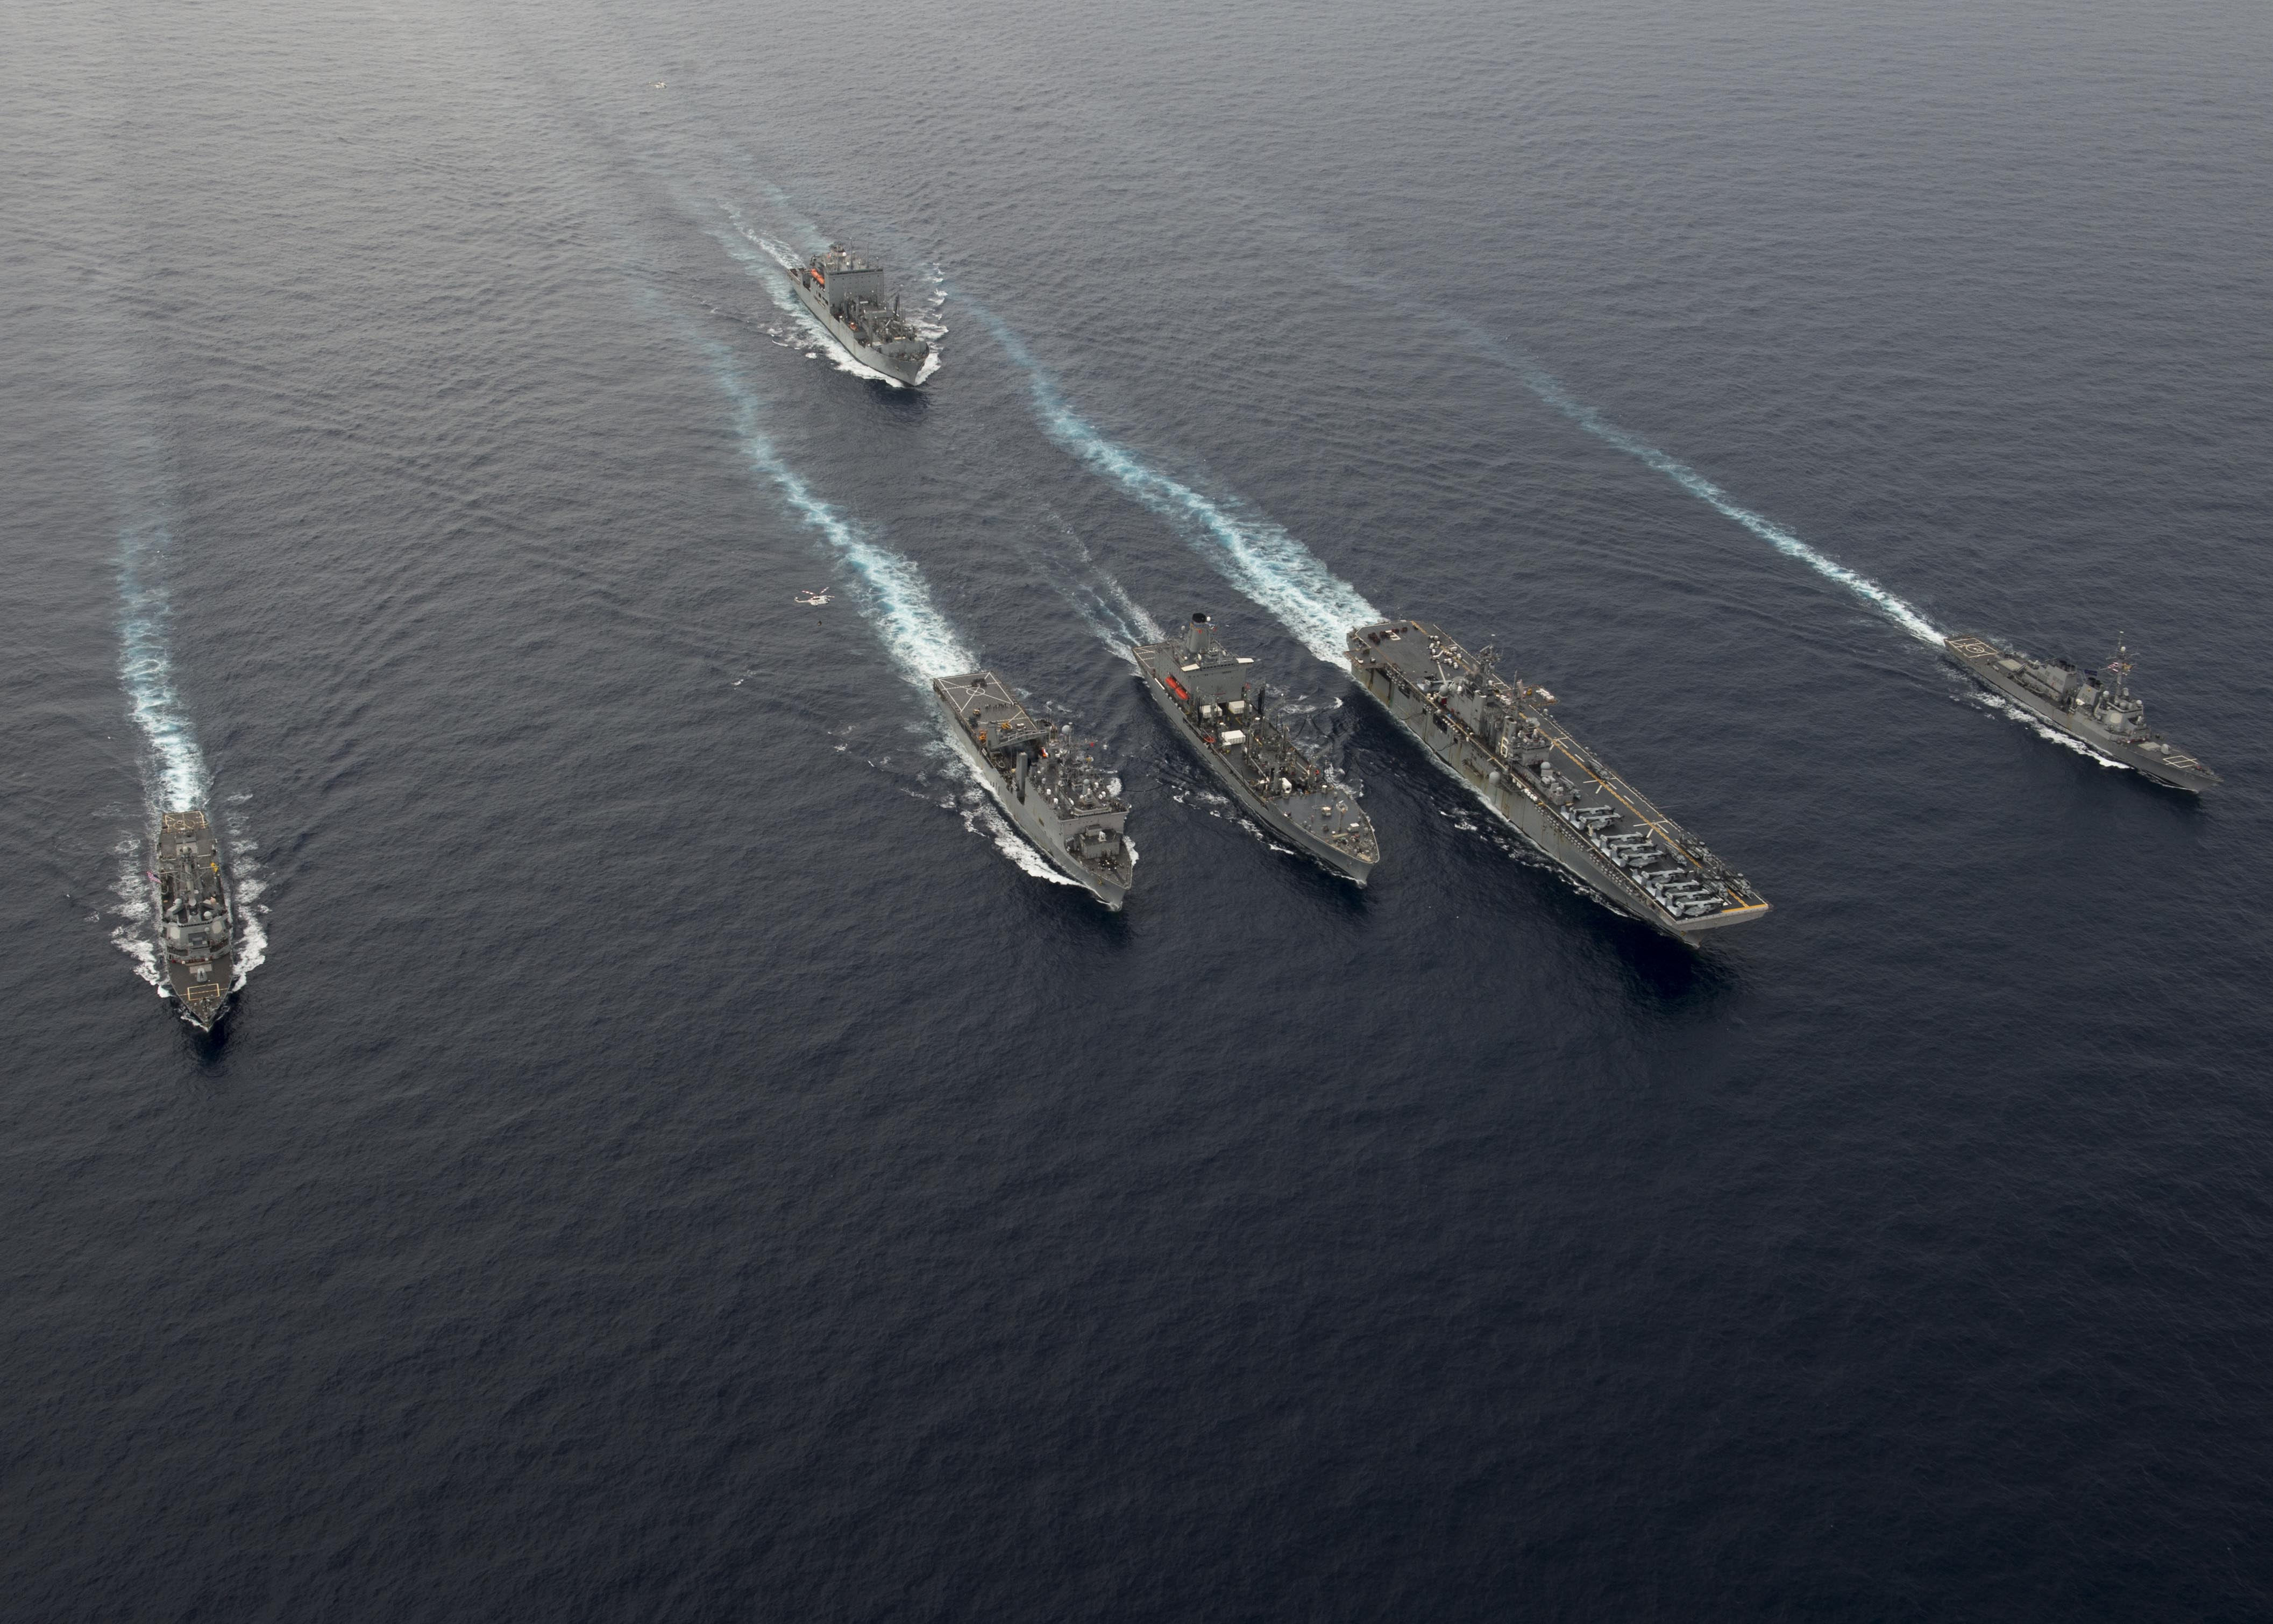ship: (1323, 596, 1841, 998), (1138, 629, 1411, 900), (896, 675, 1184, 917), (1950, 606, 2219, 814), (731, 246, 1038, 424), (135, 763, 297, 1072)
